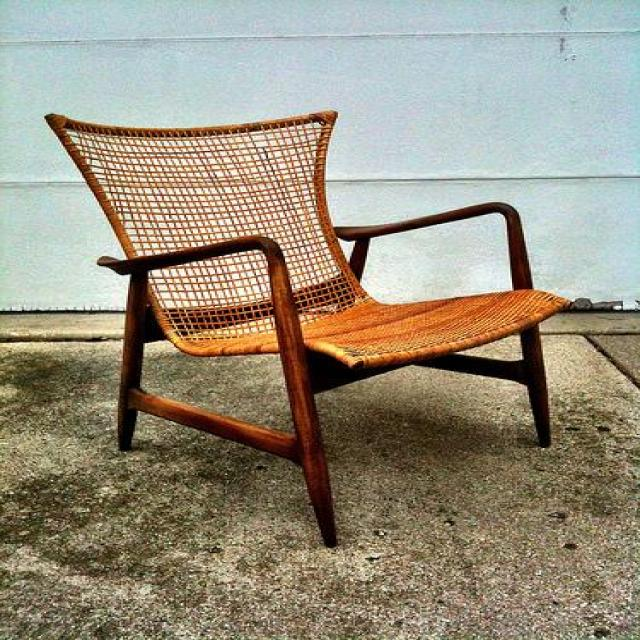chair: (42, 108, 572, 546)
